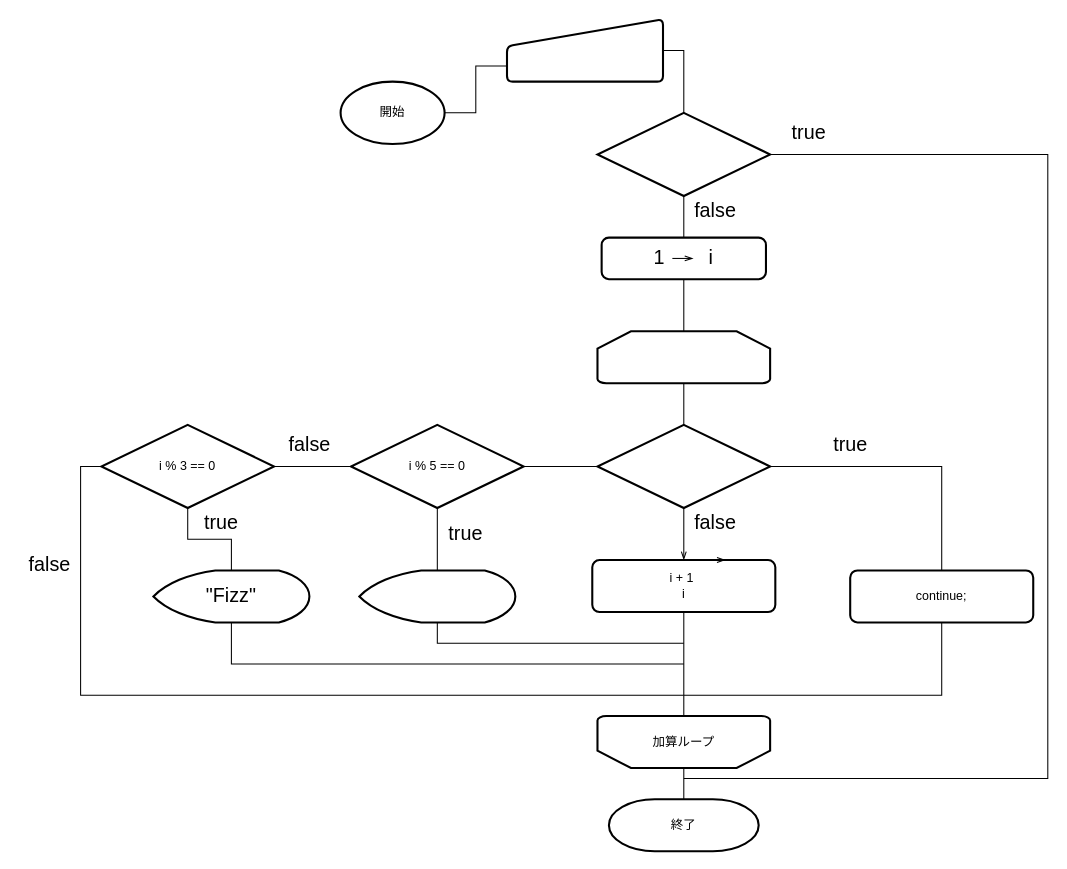
Some shapes in this 1067 by 869 pixel diagram are drawn without their labels. The shapes that lost their labels are listed below. From the top down, each one's centre as x and y in pixels, then its label:
pixel 584 50: num
pixel 683 154: num < 3 || num > 100
pixel 683 357: 加算ループ i < num
pixel 683 466: i % 15 == 0
pixel 437 596: "Buzz"
